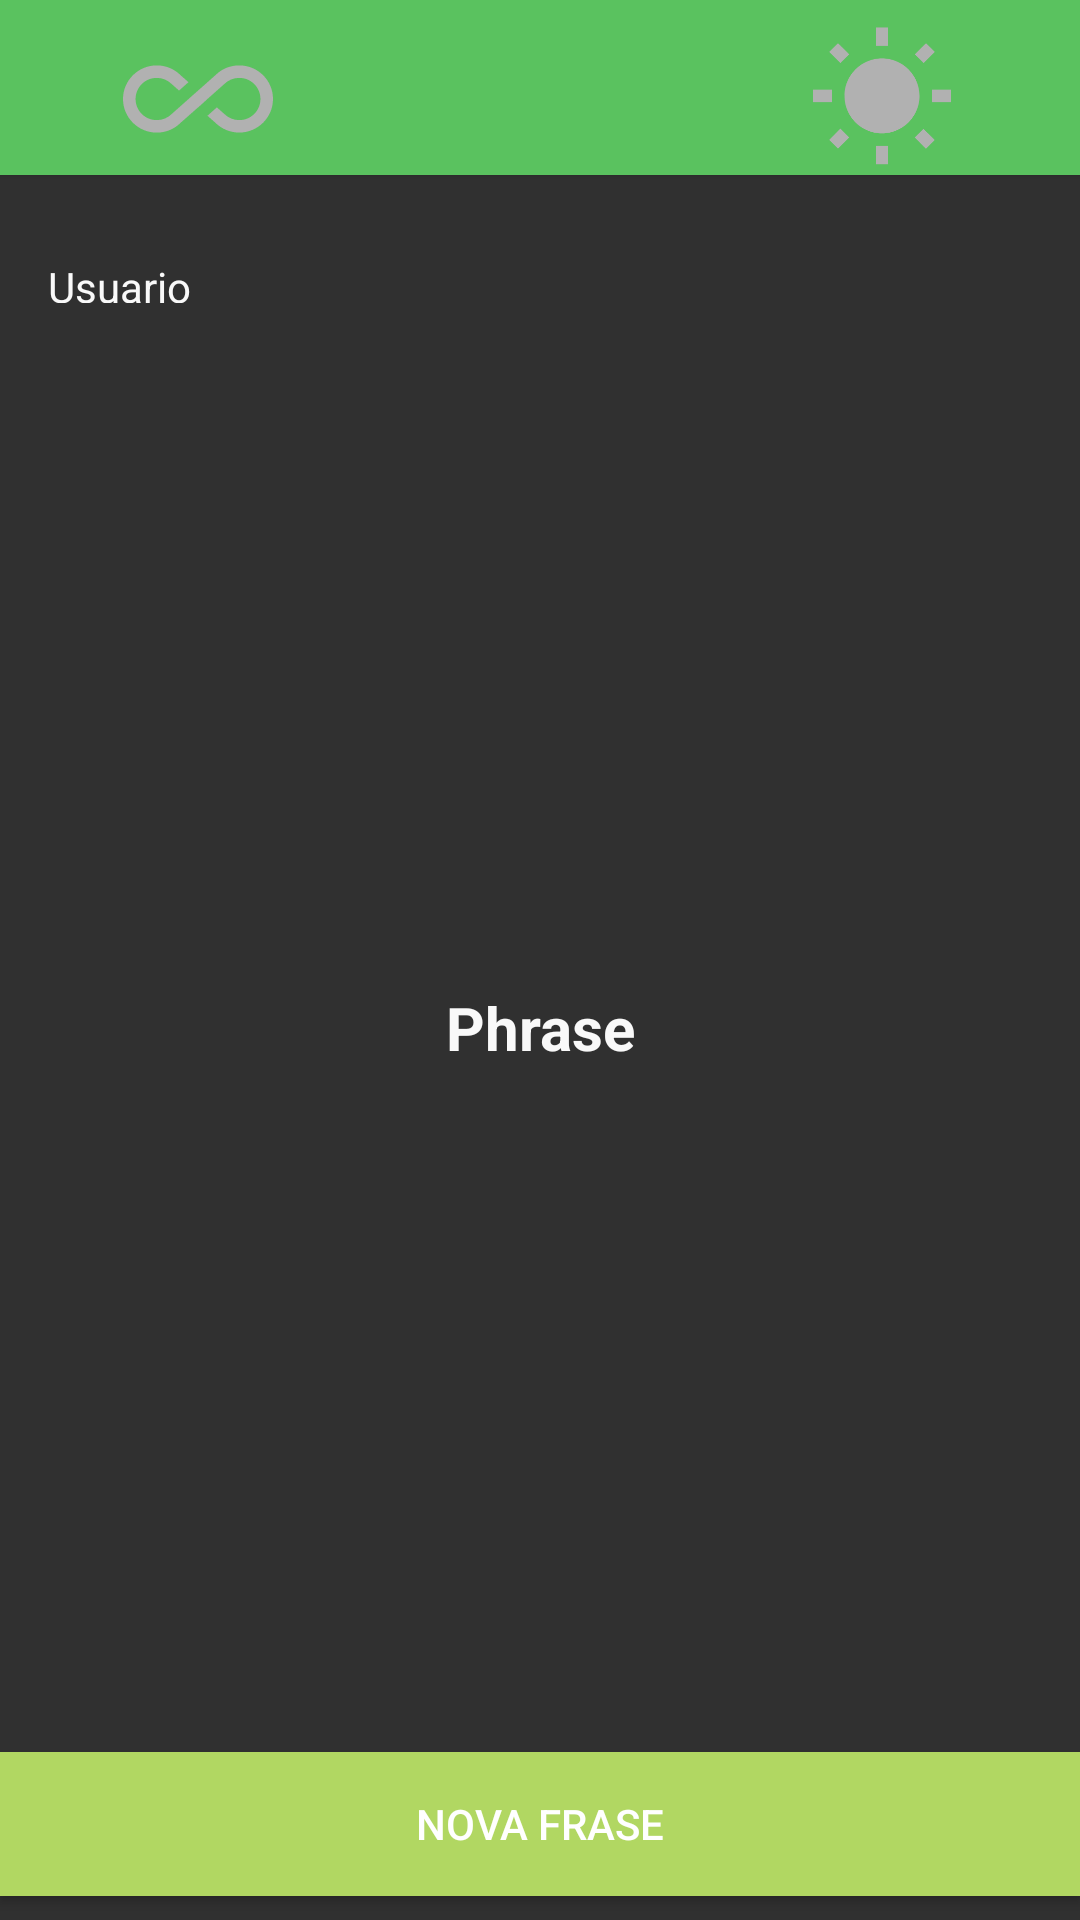

Icons on this 1080×1920 Android screen, each with its box as (x1, y1, x2, y2):
all: (123, 65, 273, 133)
sun: (813, 27, 951, 164)
